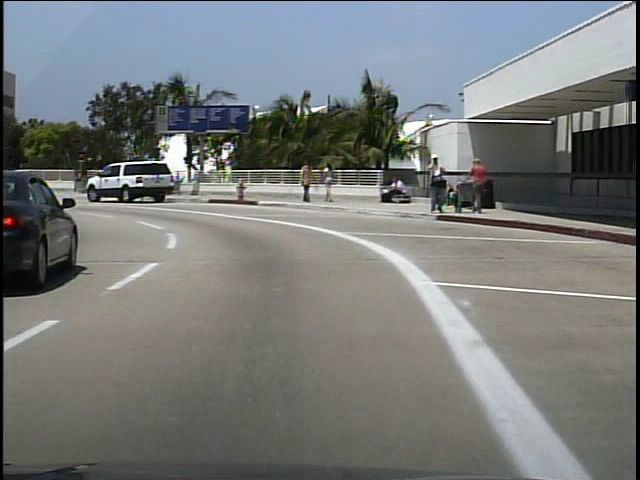person: (424, 153, 449, 220), (470, 155, 491, 215), (322, 159, 338, 206), (300, 159, 316, 206), (381, 176, 403, 205)
